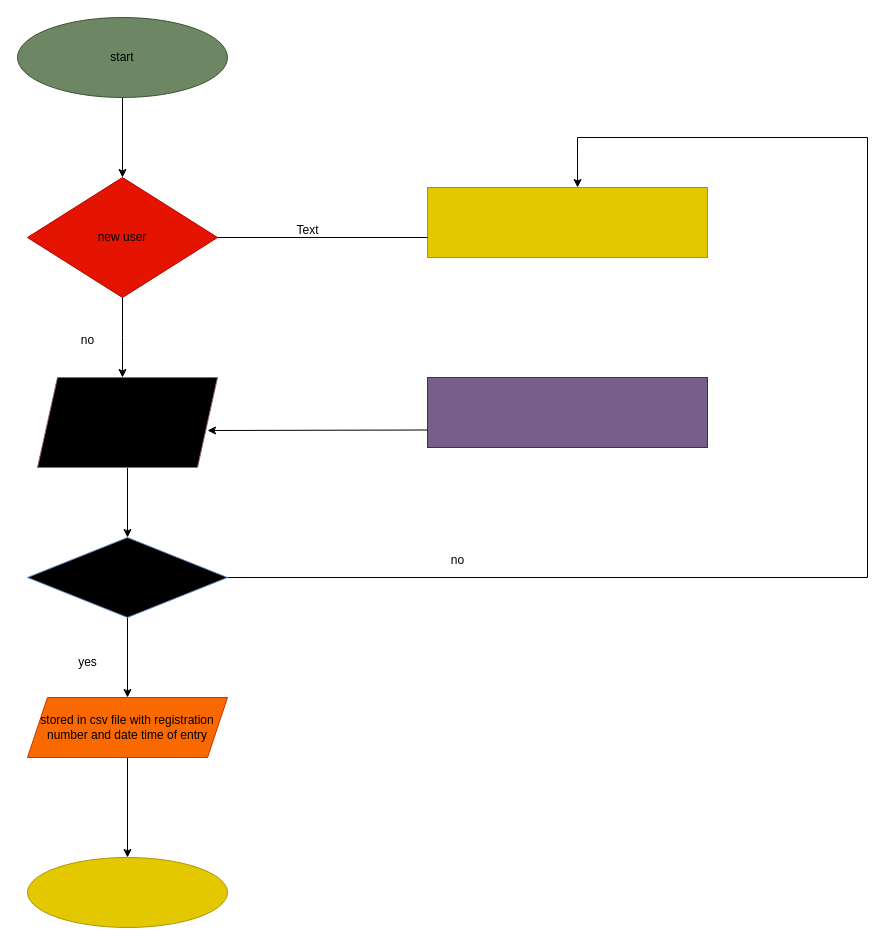
This 886x945 diagram has some shape labels left out. Here are the shapes that lost their labels. From the top down, the box of each, then its label:
(426, 186, 708, 258): give our photograph
(426, 376, 708, 448): store the face data in folder on your name
(26, 856, 228, 928): end
